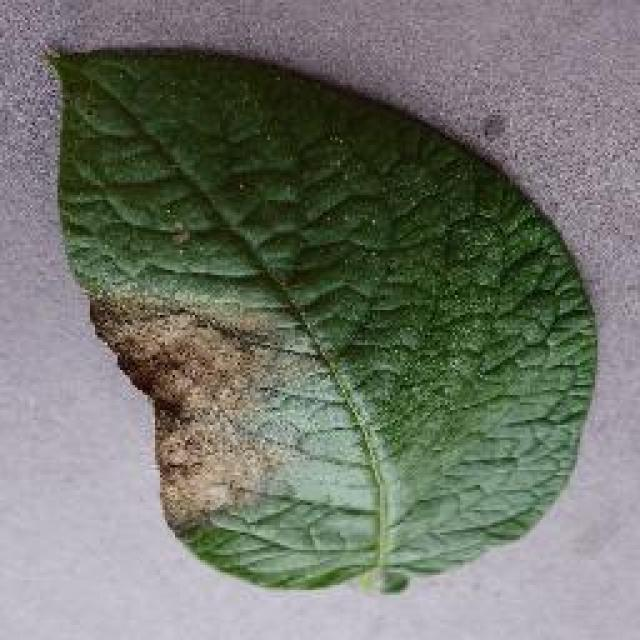late_blight: (40, 40, 602, 598)
